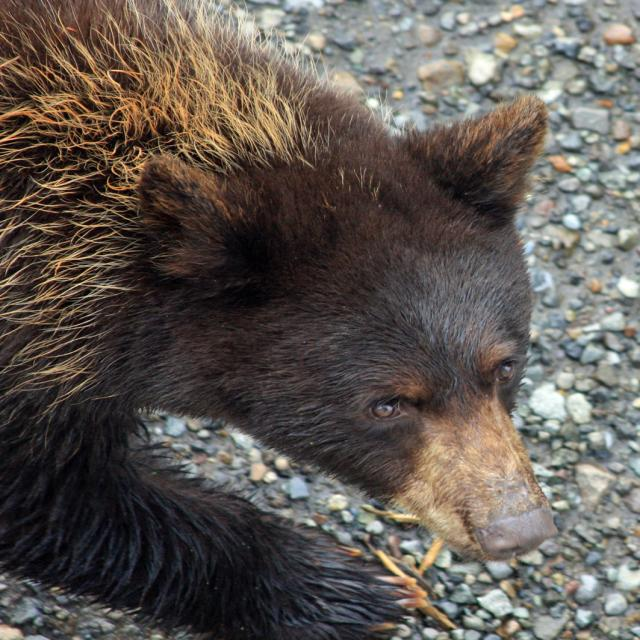Cheetahs: (0, 1, 562, 640)
